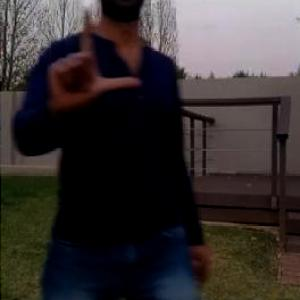land_hand: (37, 0, 149, 121)
